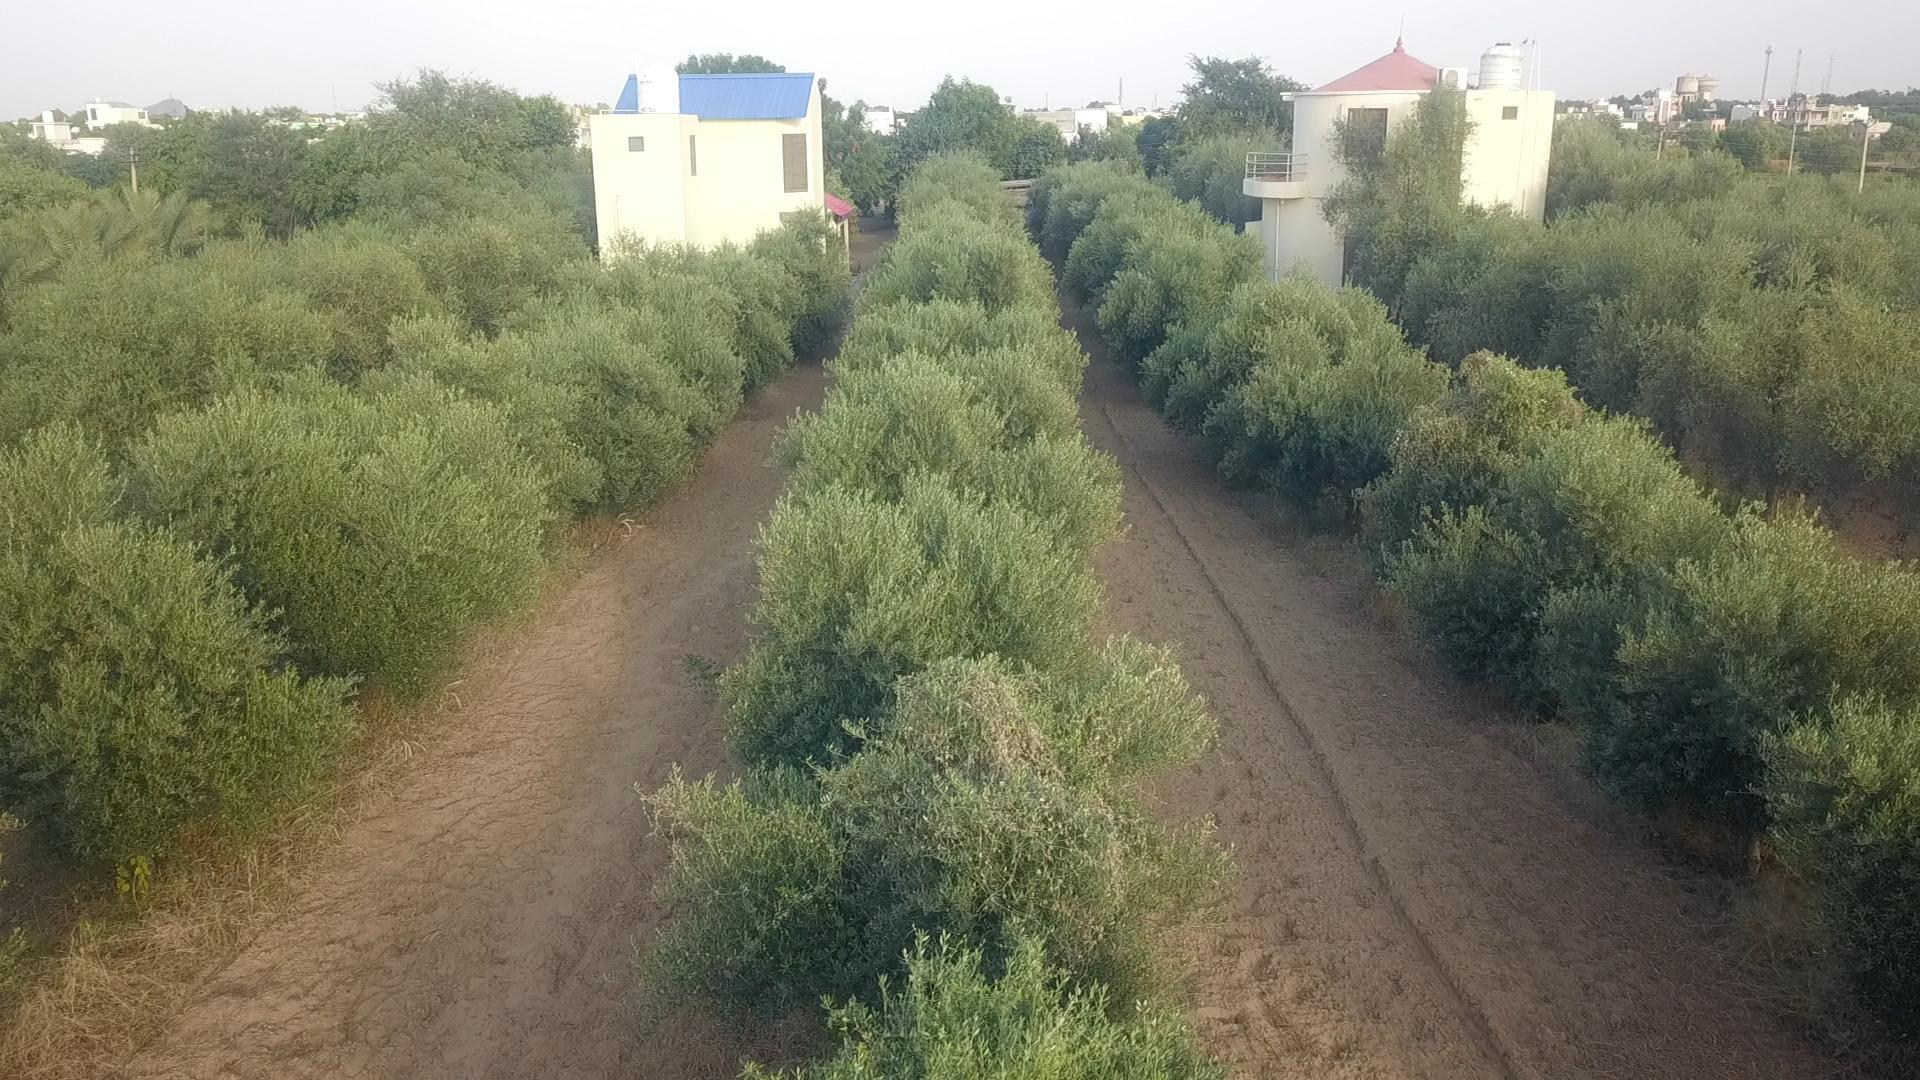canopy: (1052, 165, 1919, 855), (647, 156, 1226, 1079), (0, 251, 800, 837), (1352, 179, 1919, 472), (0, 191, 597, 436)
road: (0, 363, 828, 1079), (1068, 306, 1834, 1079)
